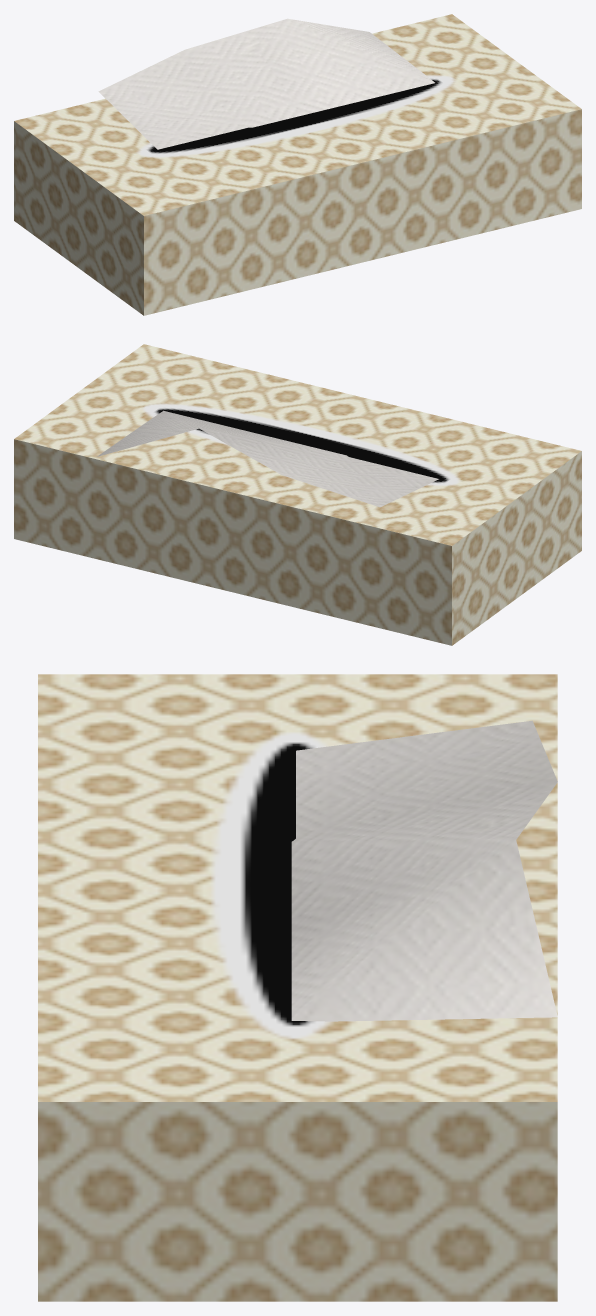
Rendered from tissue box.FBX.
The picture shows the model from 3 angles, top to bottom: view 1: azimuth 30°, elevation 25°; view 2: azimuth 150°, elevation 25°; view 3: azimuth 270°, elevation 25°; orthographic projection. The views are drawn at different scales.
Visible parts, largest first — view 1: tissue box; view 2: tissue box; view 3: tissue box.
Boxes of the visible parts, box(x1,y1,x2,y2) form: tissue box: box(14, 14, 581, 315); tissue box: box(14, 344, 581, 645); tissue box: box(38, 674, 557, 1301).
Size of the model in its own units: 15.78 by 8.11 by 5.01.
